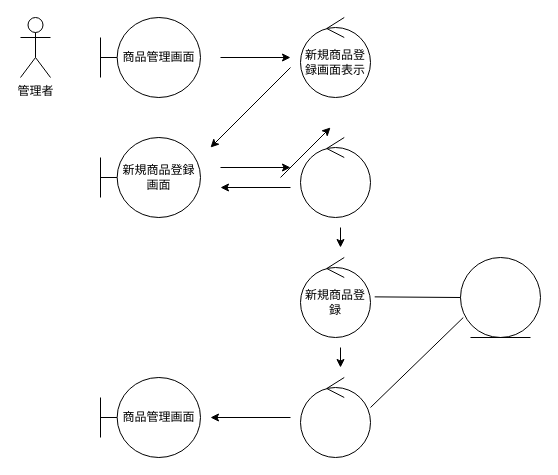
The diagram is 558 pixels wide and 475 high, and some of its shapes have lost their labels. The shapes that lost their labels are listed below. From the top down, each one's box as (x1, y1, x2, y2) in pixels, then its label:
(300, 136, 370, 218): バリデーション
(460, 256, 540, 338): 商品情報
(300, 376, 370, 458): 商品情報取得
